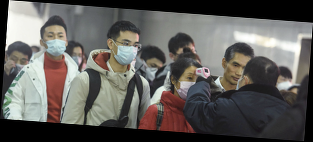with_mask: (175, 69, 200, 102), (111, 37, 140, 65), (41, 29, 67, 56), (5, 54, 28, 77), (140, 61, 164, 82), (236, 70, 253, 94), (274, 76, 293, 92), (69, 49, 82, 67)
without_mask: (224, 59, 246, 85)
